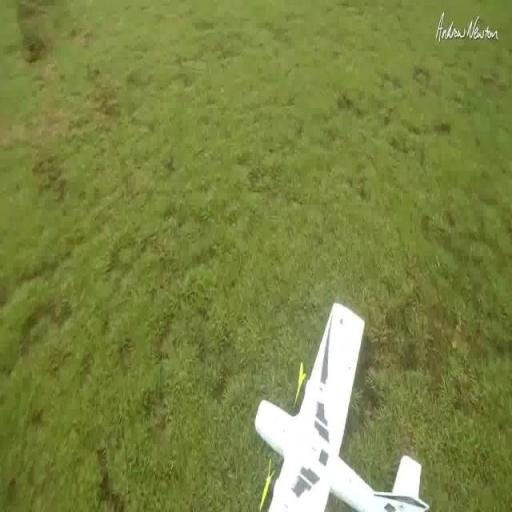uav: (242, 298, 436, 512)
